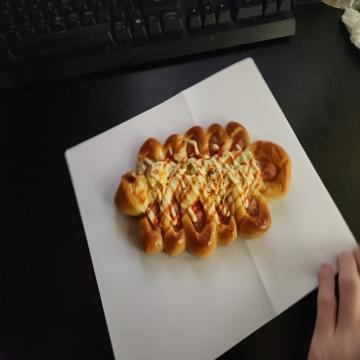pizza_bread: (115, 120, 292, 257)
